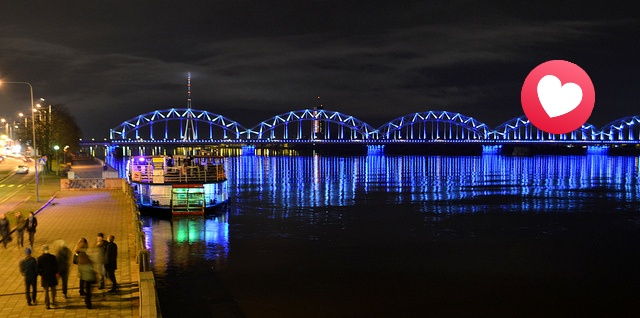love: (521, 60, 595, 134)
